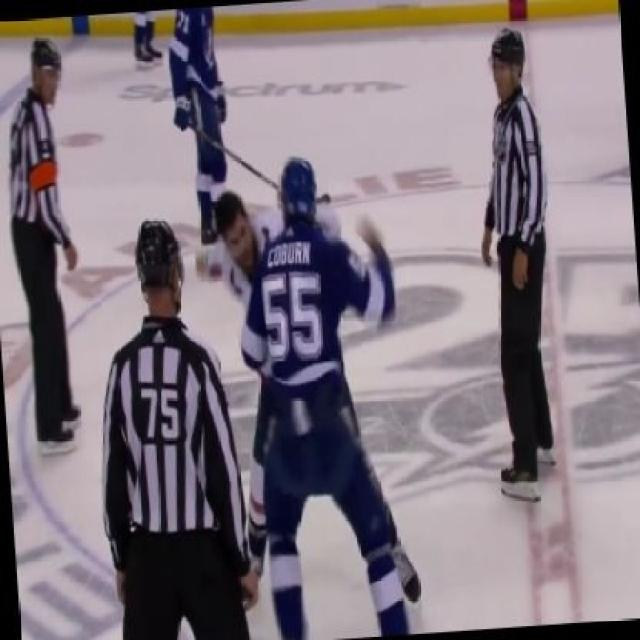fight: (198, 140, 422, 638)
non-fight: (101, 206, 261, 639), (473, 20, 560, 497)
